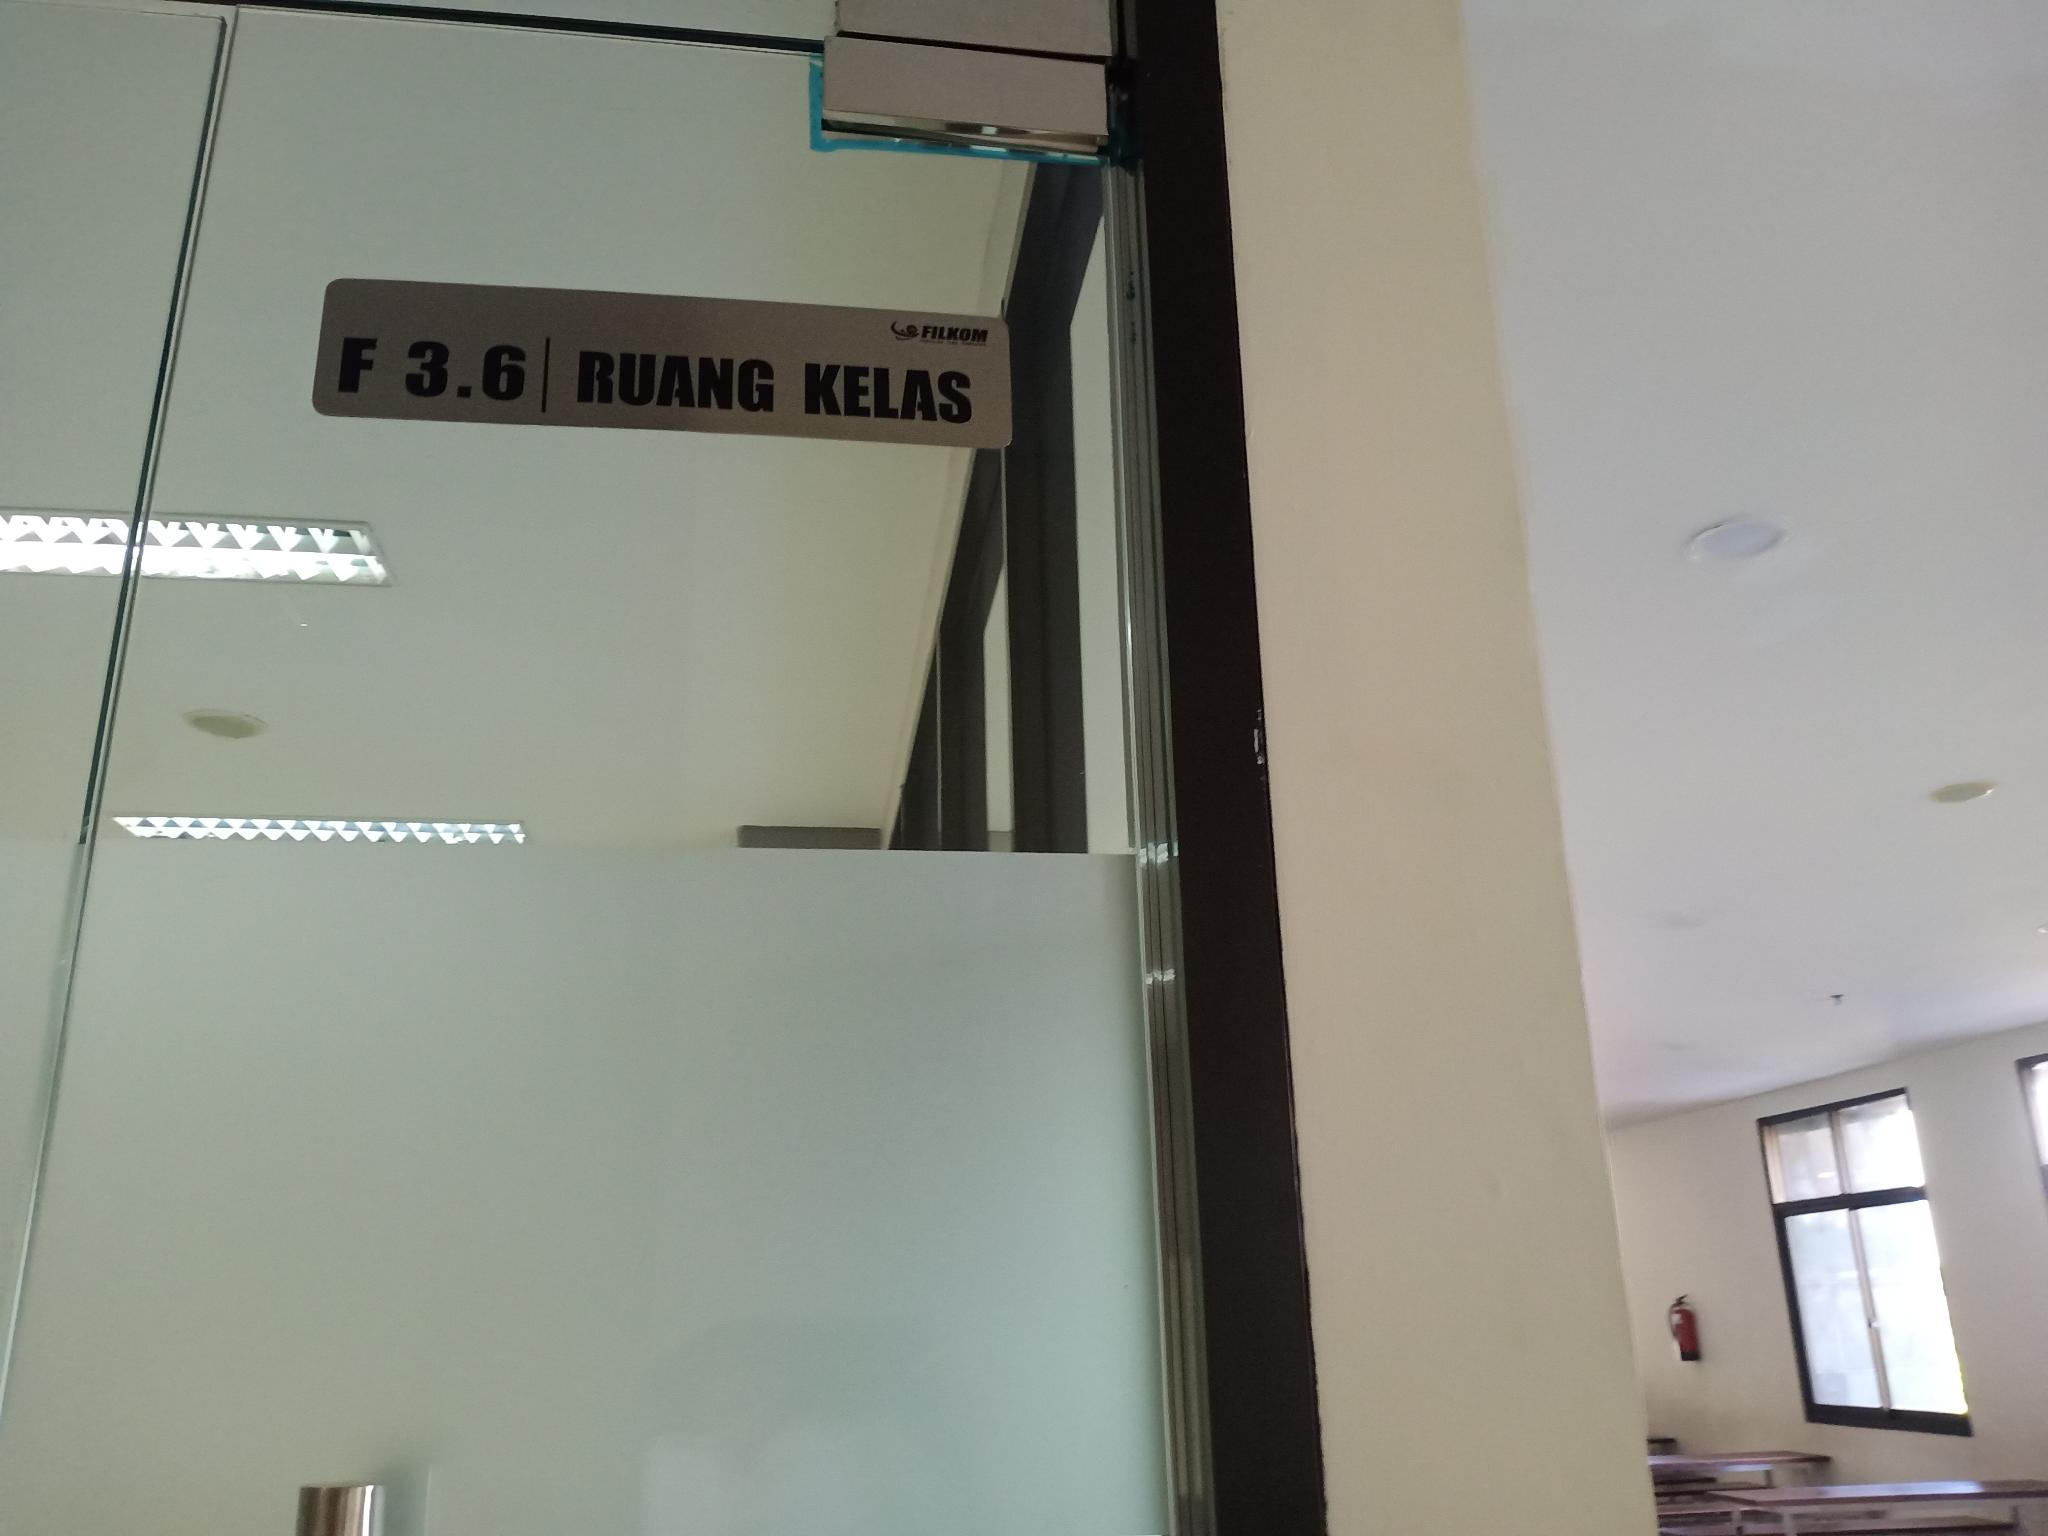plate: (305, 276, 1014, 453)
